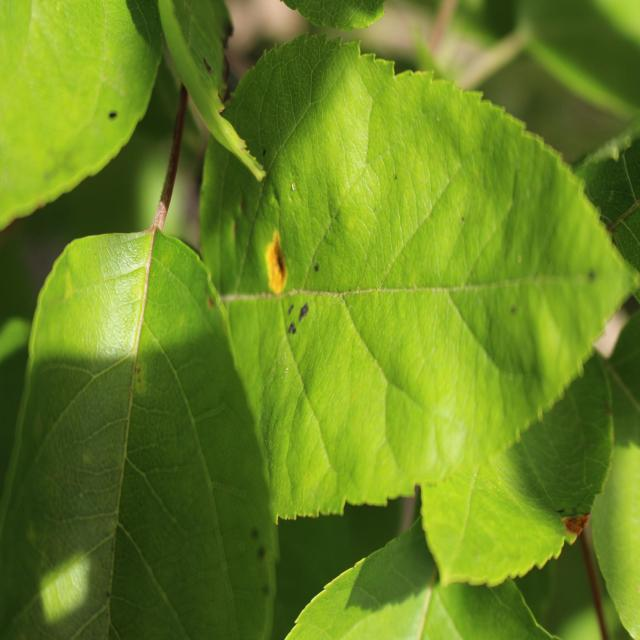Rust: (259, 220, 305, 318)
